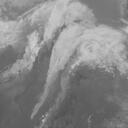cyclone: (50, 7, 127, 73)
